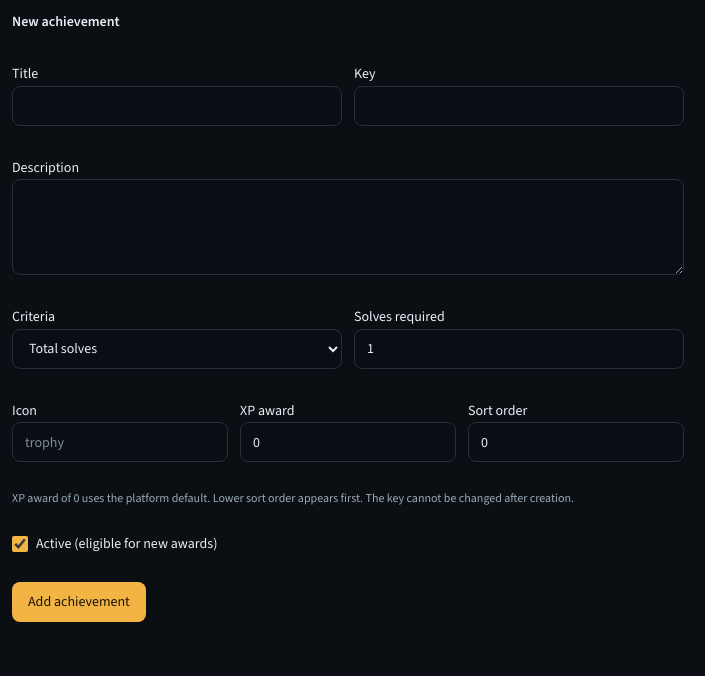
AchievementCreateForm › submits a criteria payload and refreshes
Later steps or results of the test are not shown.
Type "Crypto Starter" into the field labelled "Title". click: [177, 106]
box: left=12, top=86, right=342, bottom=126
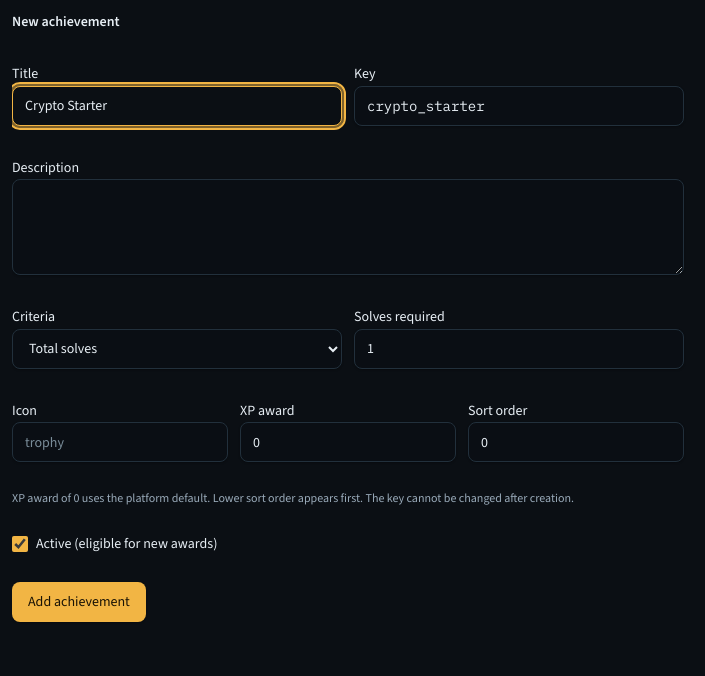
Expected: the field labelled "Key" holds "crypto_starter", left=354, top=86, right=684, bottom=126
Type "Solve two crypto challenges." into the text box labelled "Description". click: [348, 227]
box: left=12, top=179, right=684, bottom=275
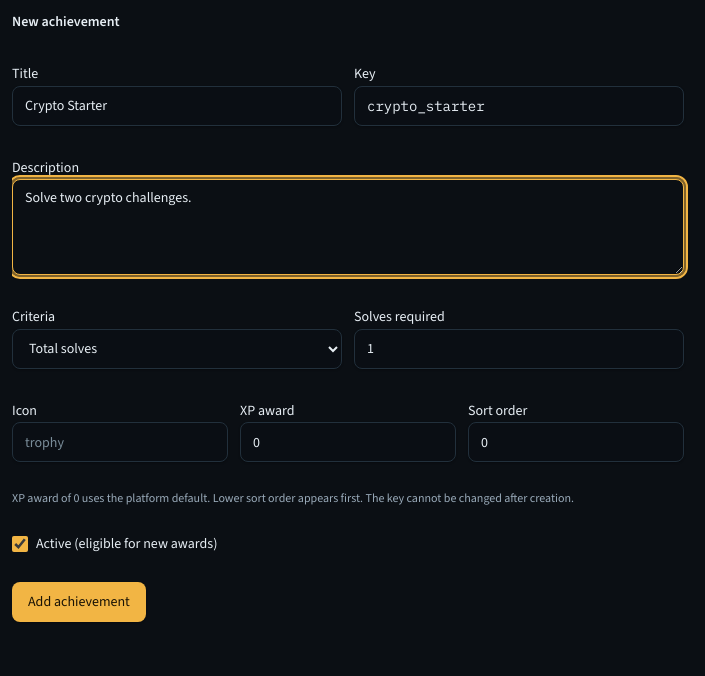
Select "Solves in a category" in the dropdown labelled "Criteria". click: [177, 349]
box: left=12, top=329, right=342, bottom=369
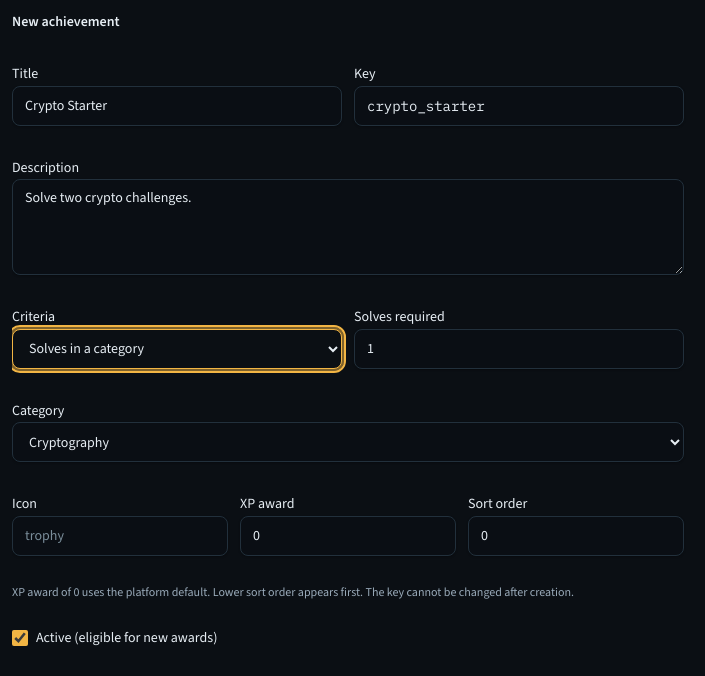
Expected: the dropdown labelled "Category" is shown, left=12, top=422, right=684, bottom=462
